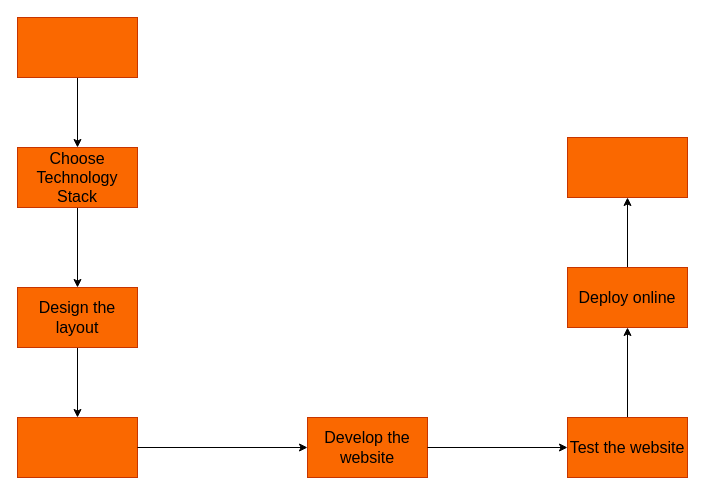
The diagram is 705 pixels wide and 495 high, and some of its shapes have lost their labels. Here are the shapes that lost their labels. From the top down, the box of each, then its label:
(16, 16, 138, 78): PLAN & Research
(566, 136, 688, 198): Maintain and update
(16, 416, 138, 478): Prepare the content
